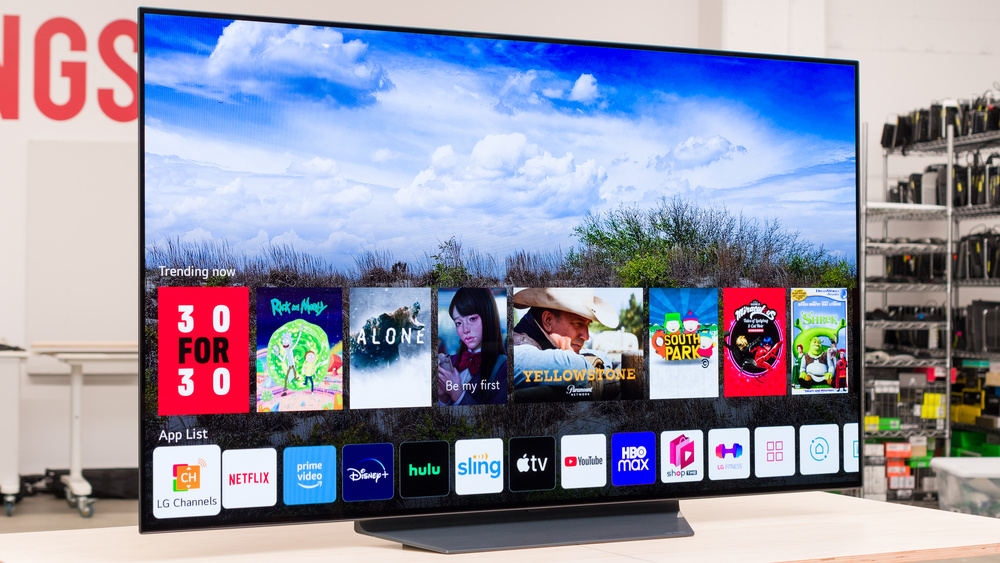tv: (130, 2, 871, 555)
